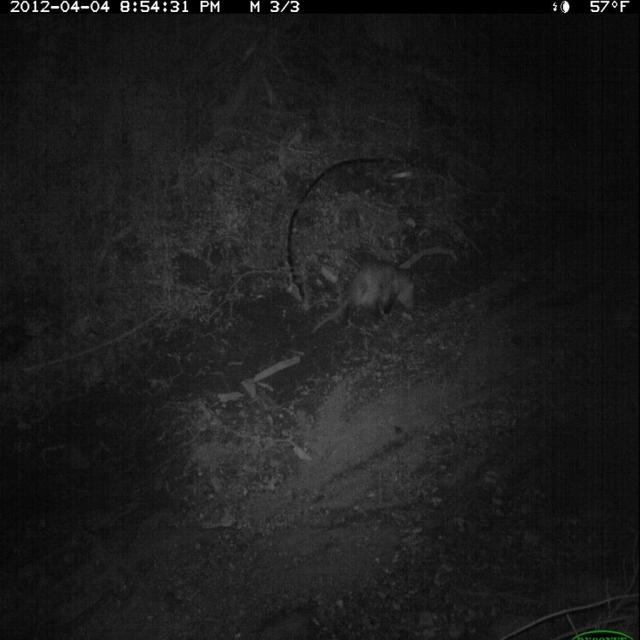opossum: (308, 257, 423, 344)
